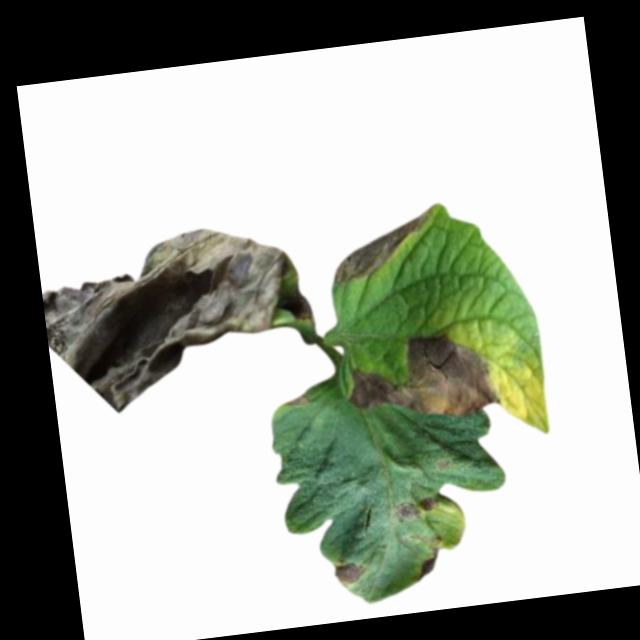Early_blight: (37, 216, 321, 421), (344, 325, 502, 431), (327, 207, 437, 287), (392, 494, 440, 525), (412, 545, 443, 580), (330, 558, 368, 586), (285, 391, 312, 410), (434, 458, 452, 473)
